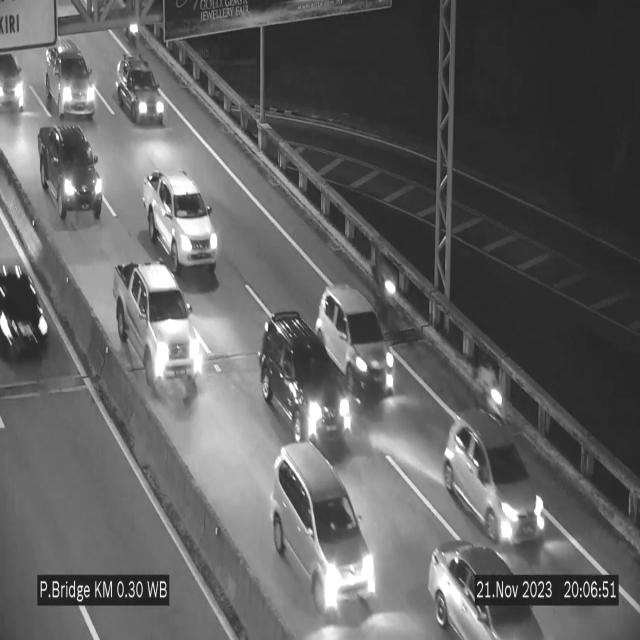Car: (271, 438, 377, 612), (258, 308, 354, 460), (442, 410, 546, 548), (109, 256, 203, 393), (315, 284, 395, 392), (143, 172, 219, 274), (37, 123, 103, 224), (44, 38, 106, 124), (116, 54, 164, 126)
Motorcycle: (369, 247, 398, 321), (475, 354, 504, 424)
